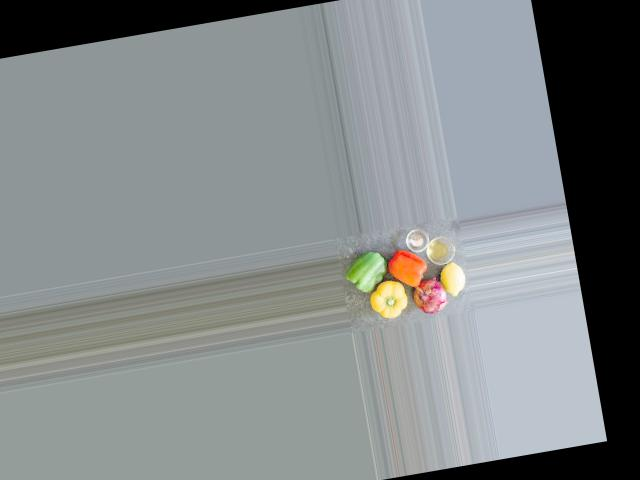bell_pepper: (386, 244, 430, 291)
